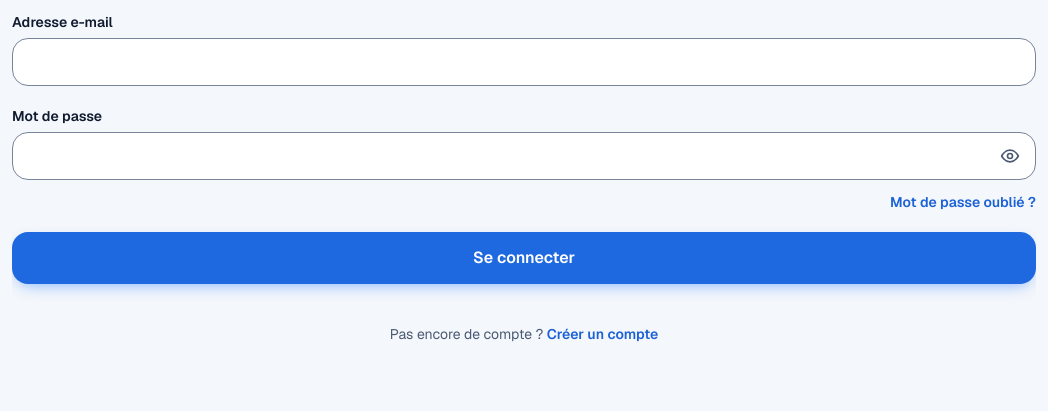
mode local (Supabase non configuré) › valide la saisie et place le focus sur le premier champ invalide
Click the button "Se connecter".
click(524, 258)  # box [12, 232, 1036, 284]
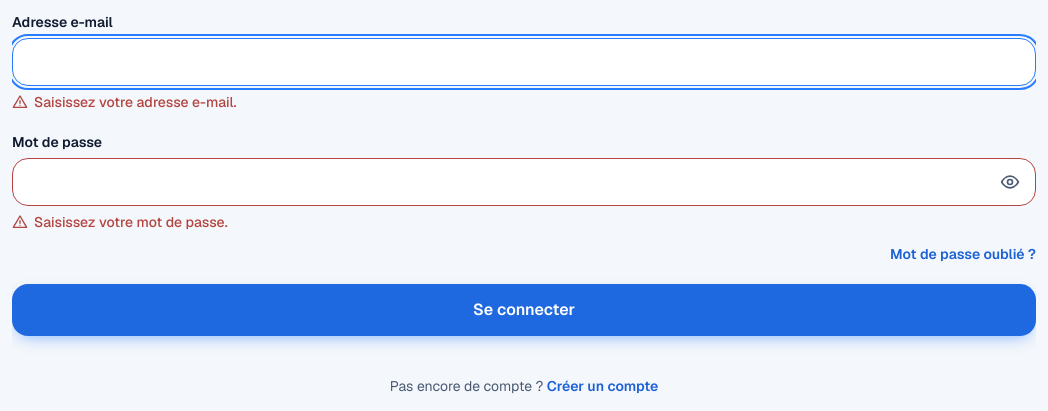
Check: the text "Saisissez votre mot de passe." is shown, box [12, 213, 228, 231]
